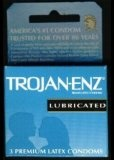grozi_102: (2, 2, 108, 158)
